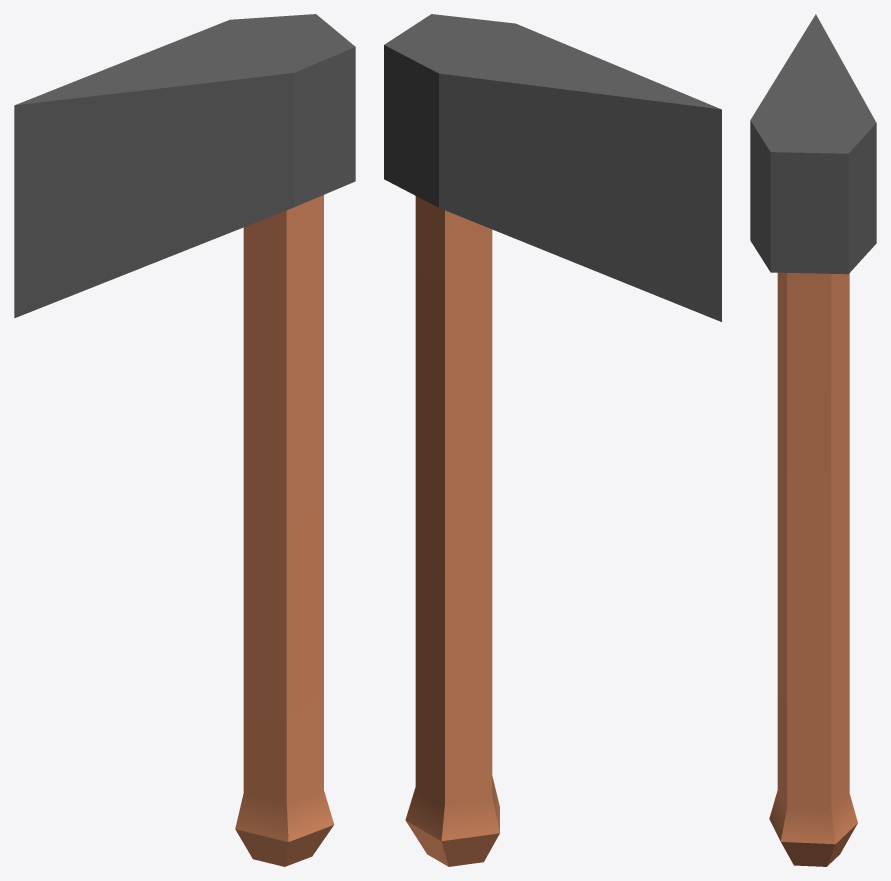
File: Axe.fbx
3 views of the same model, side by side, from view 1: azimuth 30°, elevation 25°; view 2: azimuth 150°, elevation 25°; view 3: azimuth 270°, elevation 25° (orthographic). The views are drawn at different scales.
Visible parts, largest first — view 1: head, grip; view 2: head, grip; view 3: grip, head.
Boxes of the visible parts, x1=… form: head: x1=14, y1=14, x2=355, y2=318; grip: x1=235, y1=195, x2=334, y2=866; head: x1=384, y1=14, x2=721, y2=321; grip: x1=405, y1=196, x2=499, y2=866; grip: x1=769, y1=272, x2=857, y2=866; head: x1=750, y1=14, x2=876, y2=274.
Bounding box in the file's own units: 4.98 × 12.07 × 1.9.
